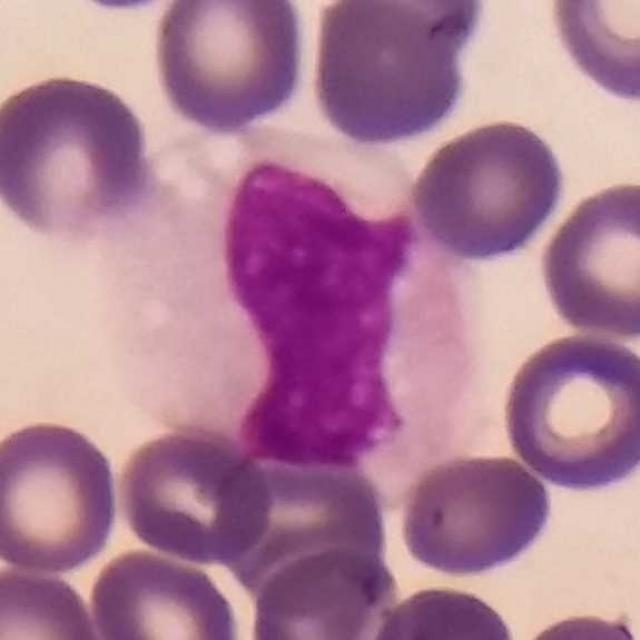Monocyte: (101, 124, 493, 495)
RBC: (0, 65, 160, 248), (216, 440, 393, 601), (303, 0, 478, 150), (406, 113, 571, 264), (496, 328, 639, 498), (112, 423, 275, 566), (148, 0, 313, 135), (395, 450, 558, 582), (0, 414, 124, 578), (535, 175, 640, 343), (87, 545, 245, 640), (245, 543, 397, 639), (315, 0, 495, 69), (542, 0, 640, 109), (364, 581, 523, 640), (0, 563, 105, 640), (510, 606, 640, 640)
